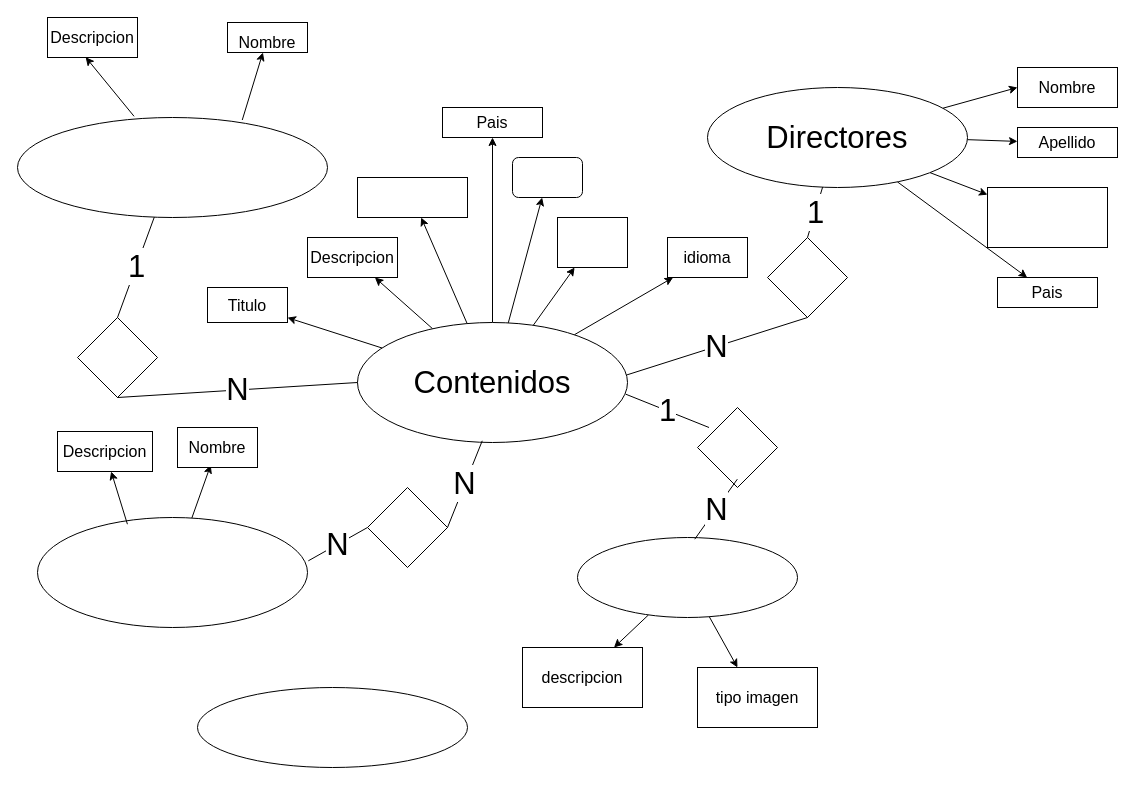
Some shapes in this 1135 by 785 pixel diagram are drawn without their labels. Here are the shapes that lost their labels. From the top down, the box of each, then its label:
(16, 116, 328, 218): Proveedores
(512, 156, 582, 198): tipo contenido
(356, 176, 468, 218): Año
(986, 186, 1108, 248): Fecha Nacimiento
(556, 216, 628, 268): duracion
(36, 516, 308, 628): Generos
(576, 536, 798, 618): Imagenes
(196, 686, 468, 768): Adminitradores
